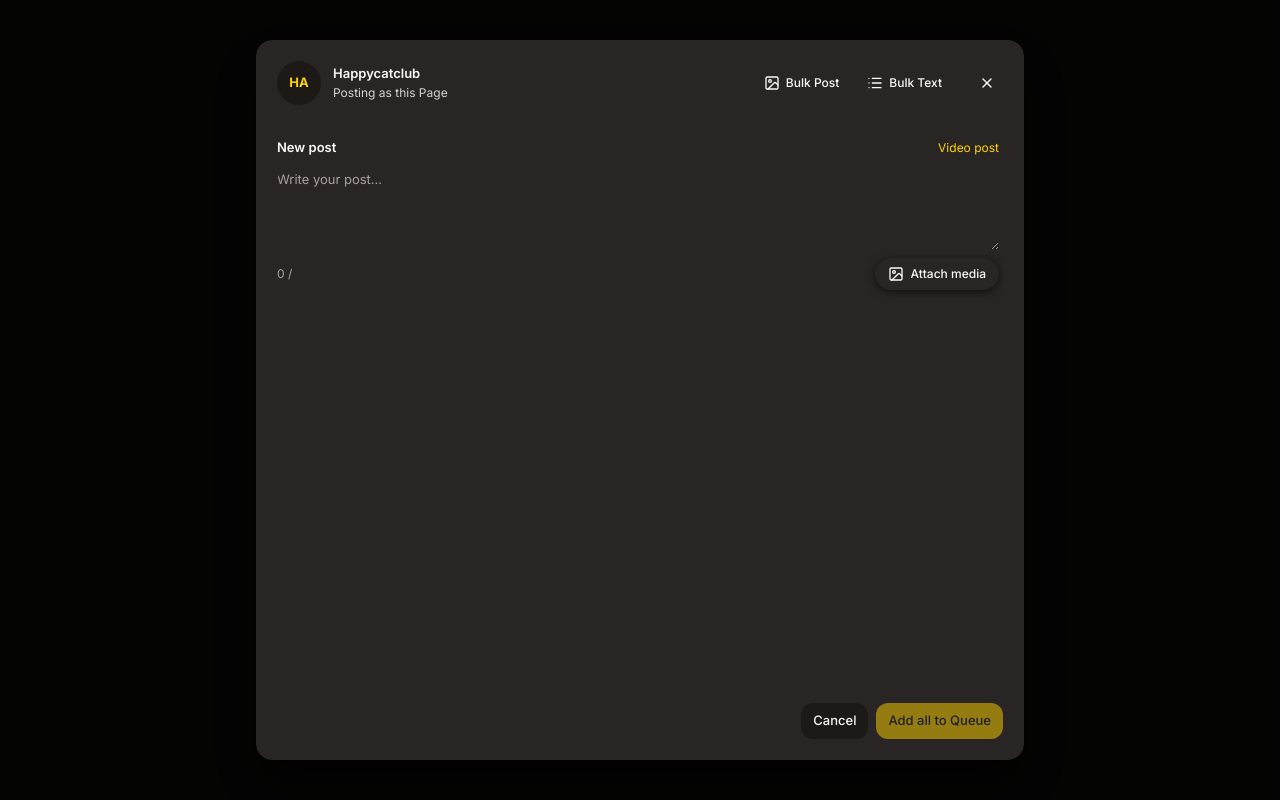
CreatePostsDialog rendering and blocks › removing a real block drops it and leaves the trailing draft
In the text box with test id "create-posts-block-text": (638, 210) [277,170,999,250], type "first post"
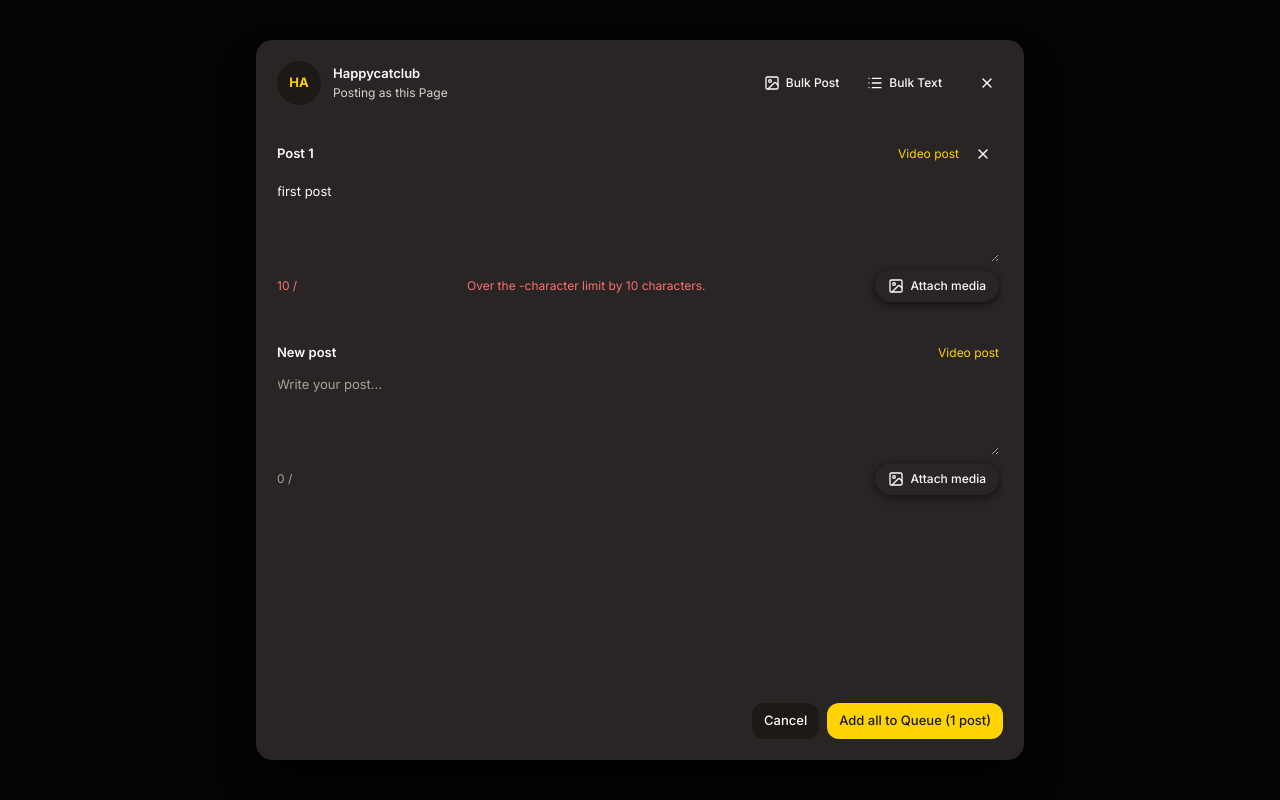
In the text box with test id "create-posts-block-text": (638, 414) [277,374,999,454], type "second post"
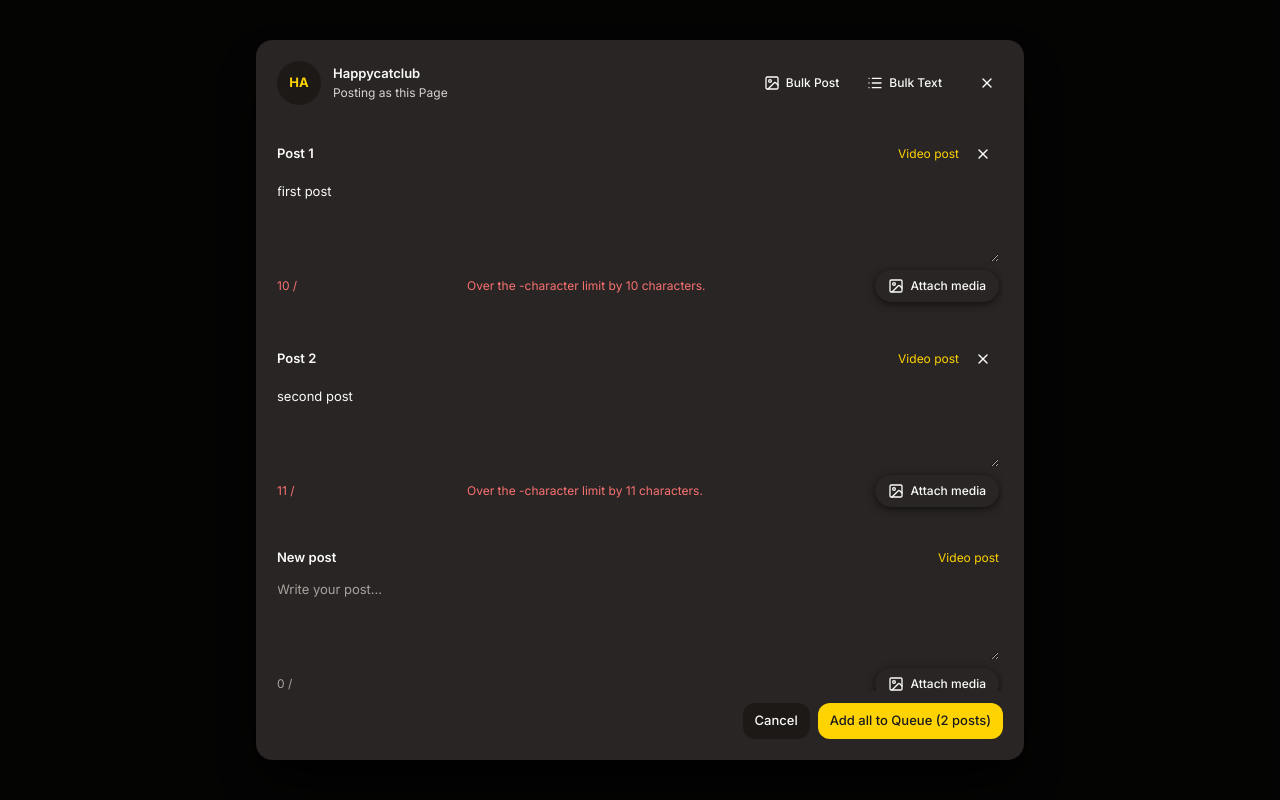
Check: the text "Post 2" is shown, box [277,349,316,369]
Click the button named "Remove Post": (983, 154) [967,138,999,170]
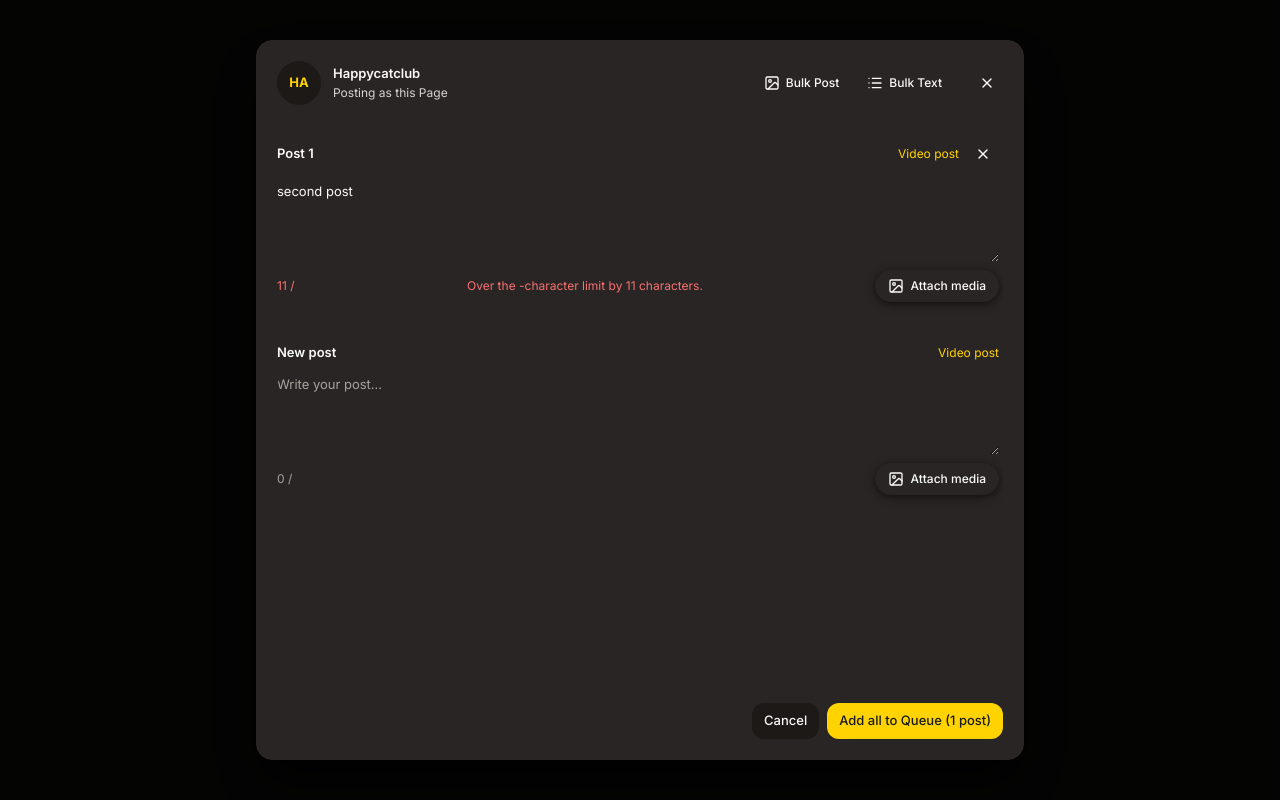
Check: the text "New post" is shown, box [277,343,336,362]
Check: the text "Post 2" is gone
